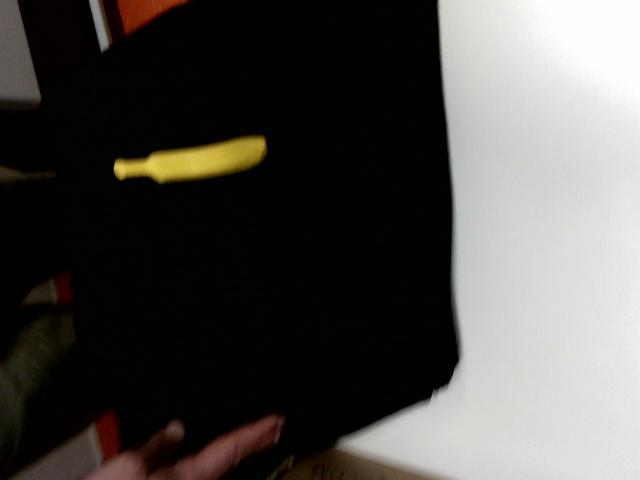banana: (111, 133, 269, 191)
